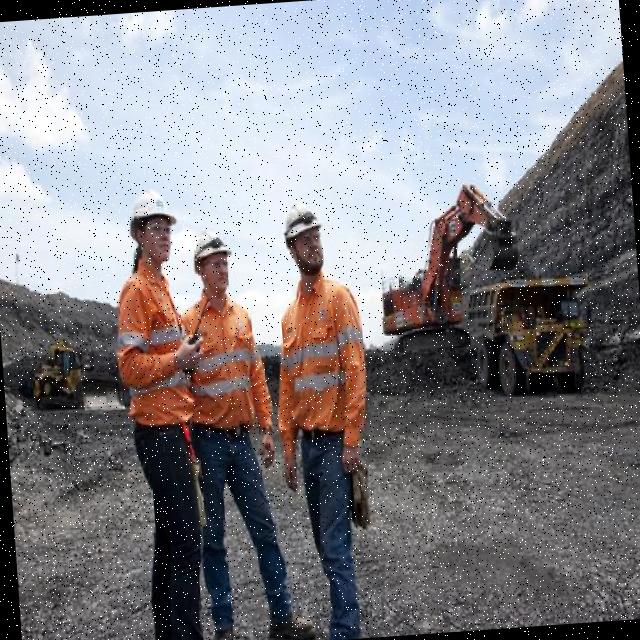Bulldozer: (18, 312, 128, 428)
Dump Truck: (460, 268, 609, 404)
Excavator: (364, 161, 526, 364)
